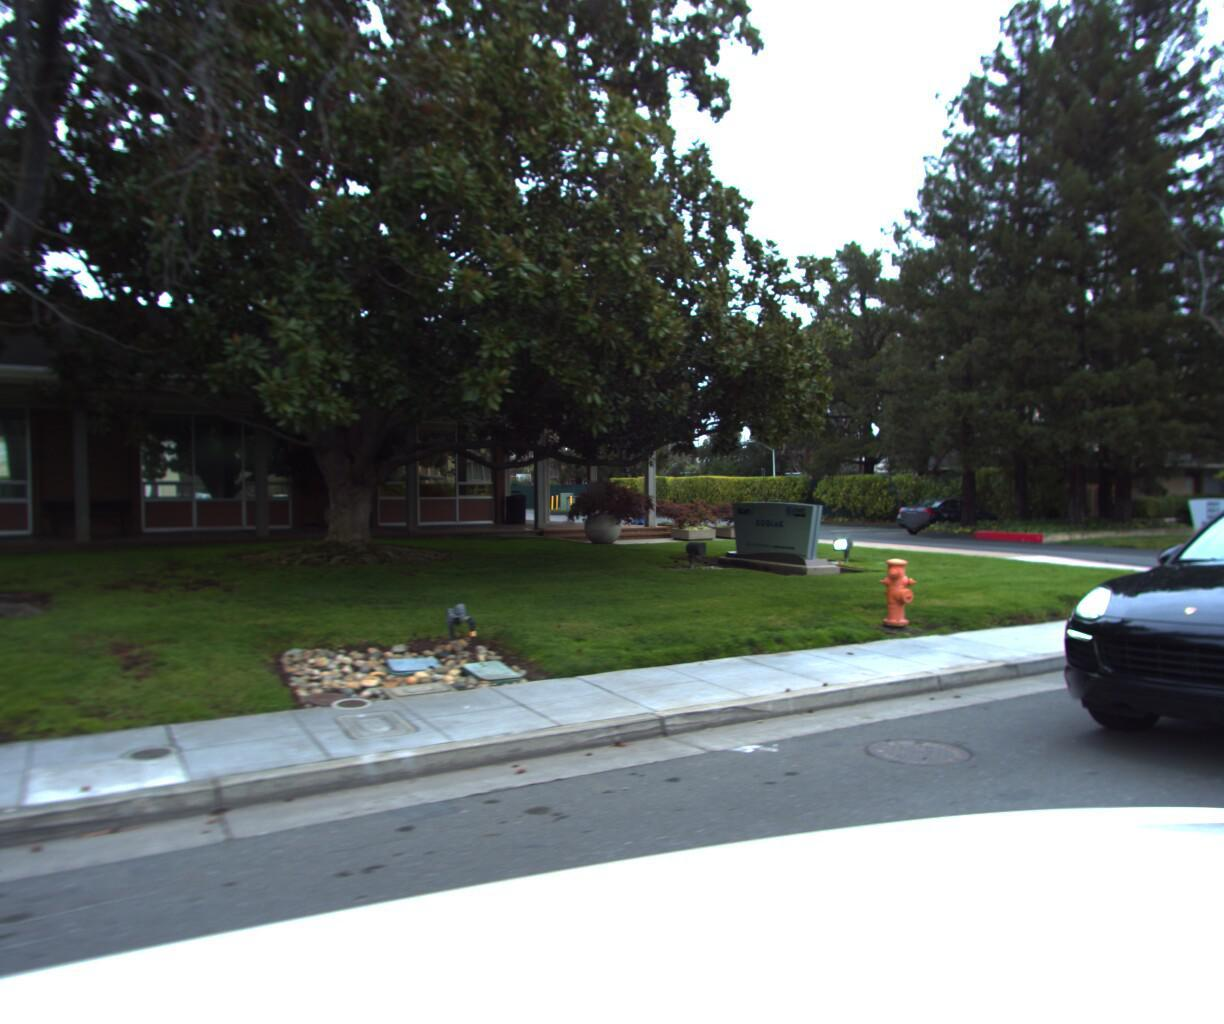car: (1027, 438, 1224, 815)
